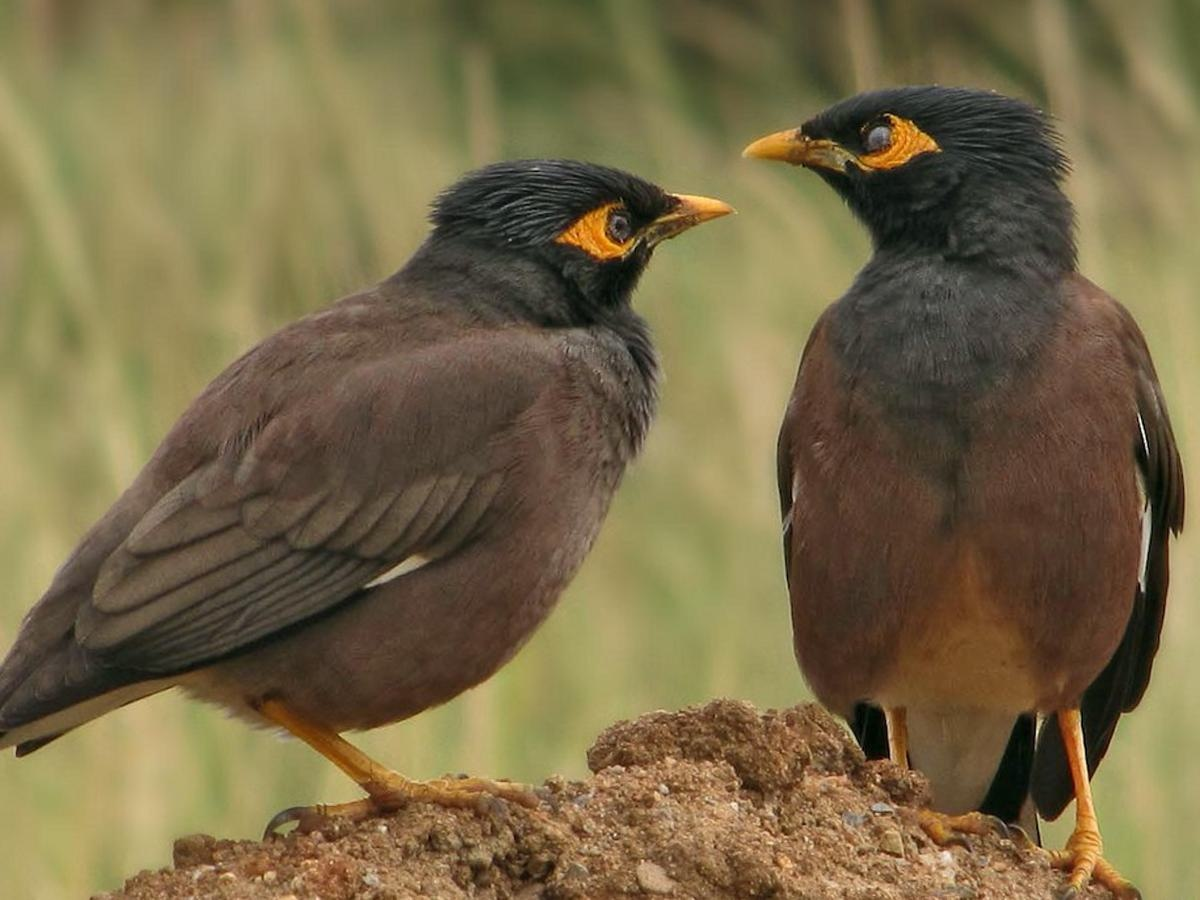myna: (39, 121, 726, 791), (753, 82, 1173, 784)
